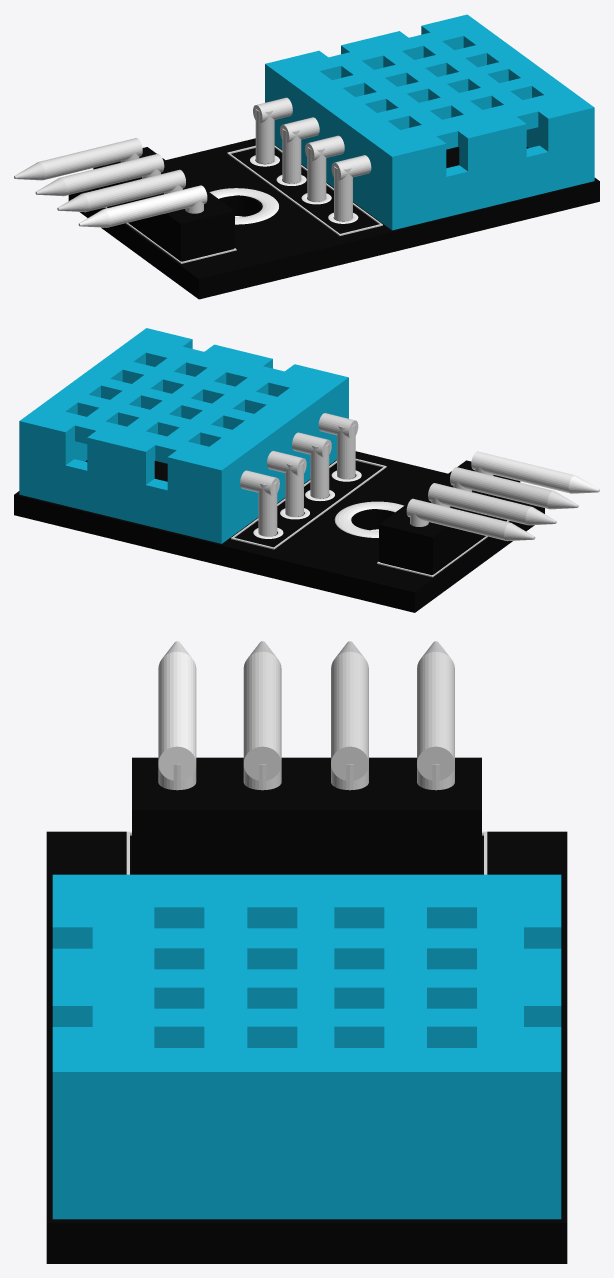
File: Sensor temperatura.fbx
3 renders of one model, top to bottom at view 1: azimuth 30°, elevation 25°; view 2: azimuth 150°, elevation 25°; view 3: azimuth 270°, elevation 25°, orthographic. The views are drawn at different scales.
Parts seen in each view (by area): view 1: Cubo.004, Cube, Cubo.001, Cilindro.009, Cilindro.015, Cilindro.013, Cilindro.011, Rosca, Cilindro.002, Cilindro.004, Cilindro.003, Cilindro.001 (+5 smaller); view 2: Cubo.004, Cube, Cubo.001, Cilindro.013, Cilindro.009, Cilindro.011, Cilindro.015, Rosca, Cilindro.002, Cilindro.004, Cilindro.001, Cilindro.003 (+5 smaller); view 3: Cubo.004, Cubo.001, Cube, Cilindro.009, Cilindro.011, Cilindro.013, Cilindro.015.
Part boxes in pixels (x1,y1,x2,y2): Cubo.004: (265,14,594,230); Cube: (68,138,599,299); Cubo.001: (93,147,234,261); Cilindro.009: (78,185,207,227); Cilindro.015: (14,138,142,180); Cilindro.013: (35,153,164,196); Cilindro.011: (57,169,185,212); Rosca: (209,188,278,224); Cilindro.002: (307,147,326,201); Cilindro.004: (255,109,274,163); Cilindro.003: (282,128,301,183); Cilindro.001: (334,166,352,221); Cubo.004: (19,328,348,543); Cube: (14,451,544,612); Cubo.001: (379,460,520,575); Cilindro.013: (428,483,556,525); Cilindro.009: (471,451,599,493); Cilindro.011: (450,467,578,509); Cilindro.015: (406,498,535,541); Rosca: (334,501,403,537); Cilindro.002: (310,443,329,498); Cilindro.004: (258,481,277,536); Cilindro.001: (337,424,355,479); Cilindro.003: (285,462,303,516); Cubo.004: (52,874,561,1219); Cubo.001: (132,757,481,874); Cube: (46,831,567,1263); Cilindro.009: (158,641,196,780); Cilindro.011: (243,641,281,780); Cilindro.013: (331,641,368,780); Cilindro.015: (417,641,454,780).
Size of the model in its own units: 860 by 158 by 398.
